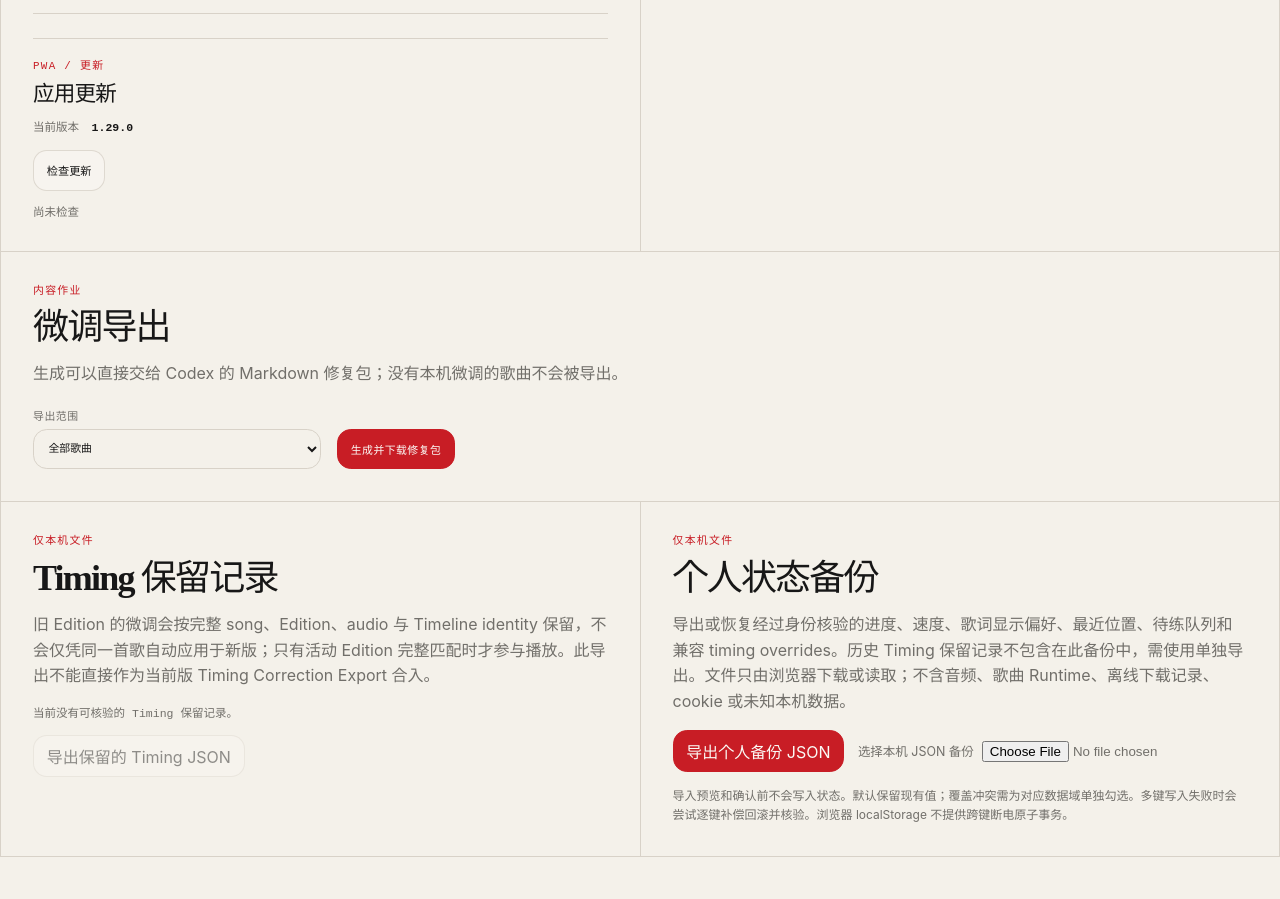
Test: SettingsPage › reports that there is nothing to export when no local override exists
(page scrolled)
Click the button "生成并下载修复包": (396, 449) [337,429,455,469]
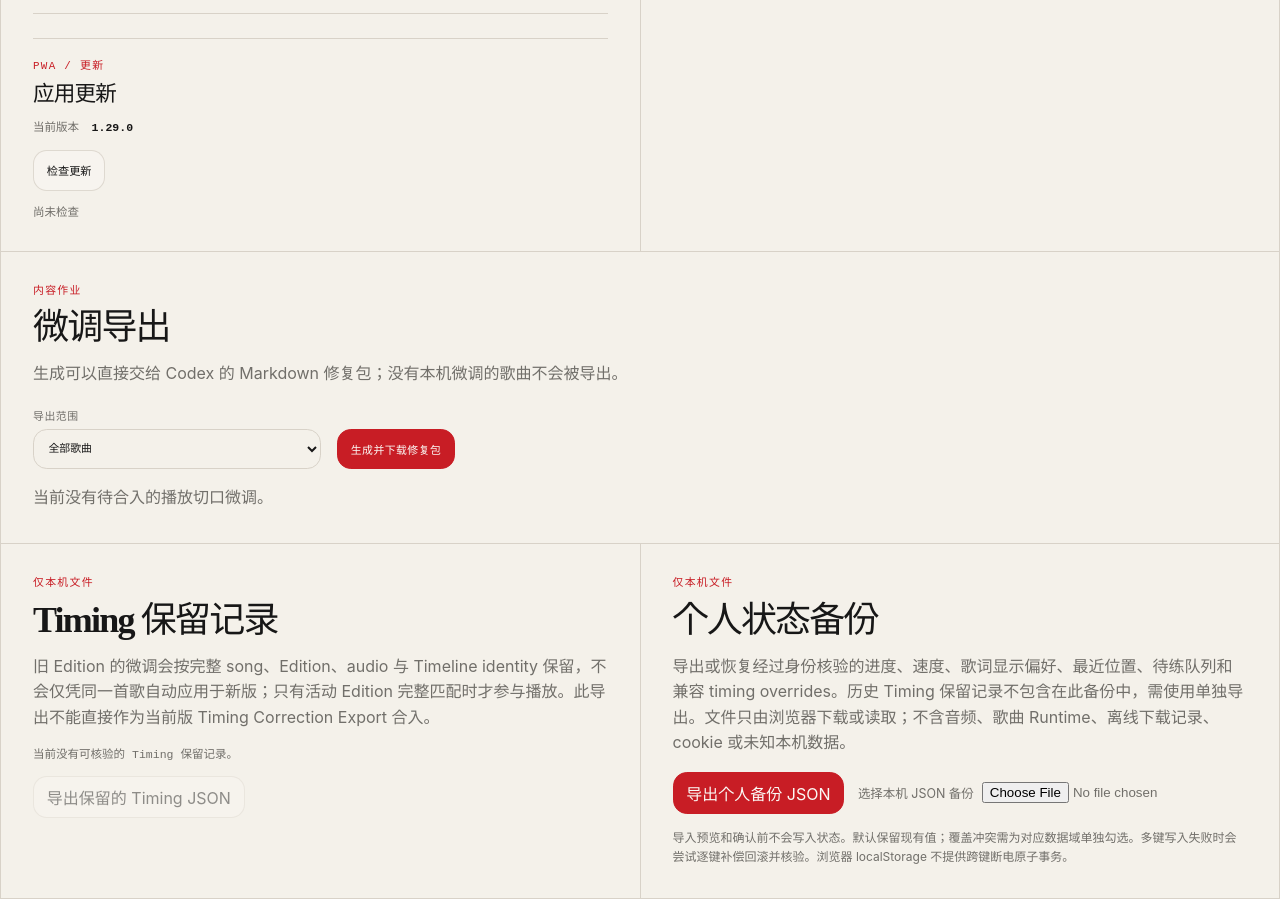
Expected: the text "当前没有待合入的播放切口微调。" is shown, [33,487,273,507]
